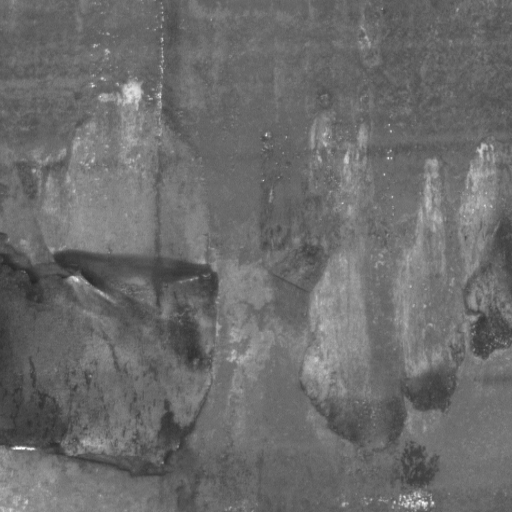qiaopi: (1, 233, 218, 477), (297, 220, 512, 458), (267, 244, 331, 295)
